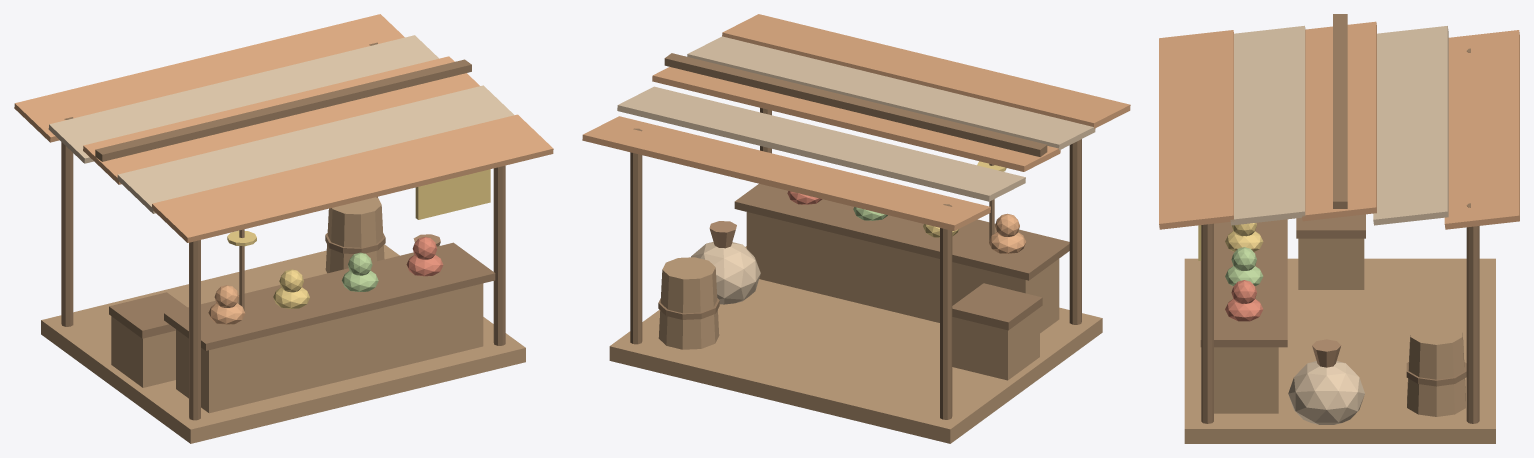
Rendered from market.glb.
3 views of the same model, side by side, from view 1: azimuth 30°, elevation 25°; view 2: azimuth 150°, elevation 25°; view 3: azimuth 270°, elevation 25° (orthographic). The views are drawn at different scales.
Parts seen in each view (by area): view 1: counter, deck, canopy_4, canopy_3, canopy_1, canopy_0, counter_top, canopy_2, canopy_ridge, crate_l, barrel, sign (+8 smaller); view 2: deck, counter, canopy_1, canopy_0, canopy_4, canopy_3, counter_top, canopy_2, canopy_ridge, barrel, crate_l, crate_l_frame (+6 smaller); view 3: deck, canopy_4, canopy_1, canopy_0, canopy_3, canopy_2, counter_top, barrel, counter, sack_r, crate_l, canopy_ridge (+10 smaller).
Boxes of the visible parts, bbox=[...] form: counter: bbox=[176, 283, 483, 413]; deck: bbox=[41, 244, 525, 443]; canopy_4: bbox=[151, 114, 553, 242]; canopy_3: bbox=[117, 85, 514, 213]; canopy_1: bbox=[48, 35, 438, 163]; canopy_0: bbox=[14, 14, 404, 142]; counter_top: bbox=[164, 242, 495, 350]; canopy_2: bbox=[83, 56, 479, 184]; canopy_ridge: bbox=[95, 59, 471, 161]; crate_l: bbox=[111, 316, 175, 387]; barrel: bbox=[325, 197, 384, 273]; sign: bbox=[415, 169, 490, 219]; deck: bbox=[609, 246, 1102, 443]; counter: bbox=[746, 212, 1059, 333]; canopy_1: bbox=[617, 86, 1025, 201]; canopy_0: bbox=[582, 116, 990, 231]; canopy_4: bbox=[722, 14, 1130, 128]; canopy_3: bbox=[687, 36, 1095, 150]; counter_top: bbox=[734, 183, 1069, 280]; canopy_2: bbox=[652, 67, 1060, 171]; canopy_ridge: bbox=[664, 53, 1047, 156]; barrel: bbox=[658, 257, 719, 349]; crate_l: bbox=[952, 308, 1039, 380]; crate_l_frame: bbox=[952, 283, 1042, 330]; deck: bbox=[1184, 258, 1495, 443]; canopy_4: bbox=[1159, 30, 1234, 229]; canopy_1: bbox=[1373, 26, 1448, 225]; canopy_0: bbox=[1444, 30, 1519, 229]; canopy_3: bbox=[1230, 25, 1305, 225]; canopy_2: bbox=[1302, 21, 1376, 221]; counter_top: bbox=[1200, 219, 1287, 347]; barrel: bbox=[1407, 321, 1465, 416]; counter: bbox=[1214, 347, 1278, 413]; sack_r: bbox=[1288, 361, 1364, 424]; crate_l: bbox=[1298, 238, 1364, 289]; canopy_ridge: bbox=[1333, 14, 1347, 208].
Bounding box in the file's own units: 4.81 × 3 × 3.91.
